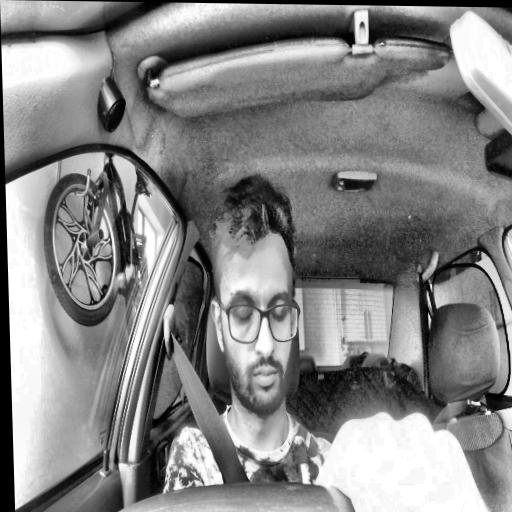drowsy: (206, 170, 303, 415)
